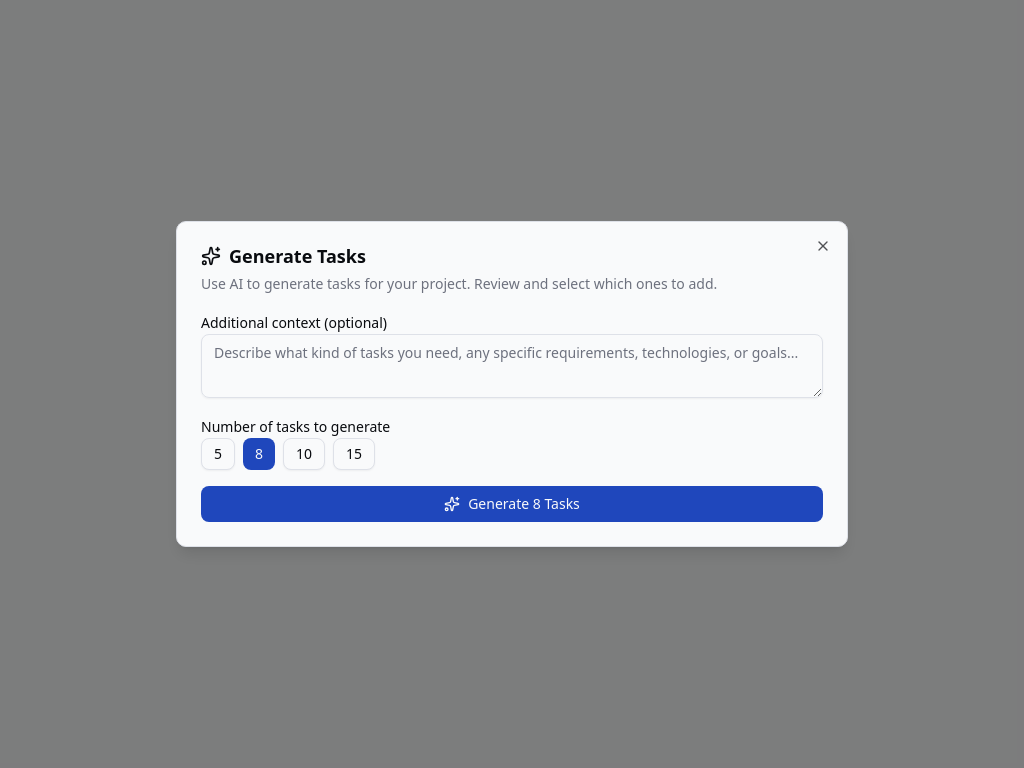
Test: GenerateTasksDialog › changes count when a count button is clicked
This screenshot has width=1024, height=768.
Step 1. Click the button "5" → (218, 454), box [201,438,235,470]
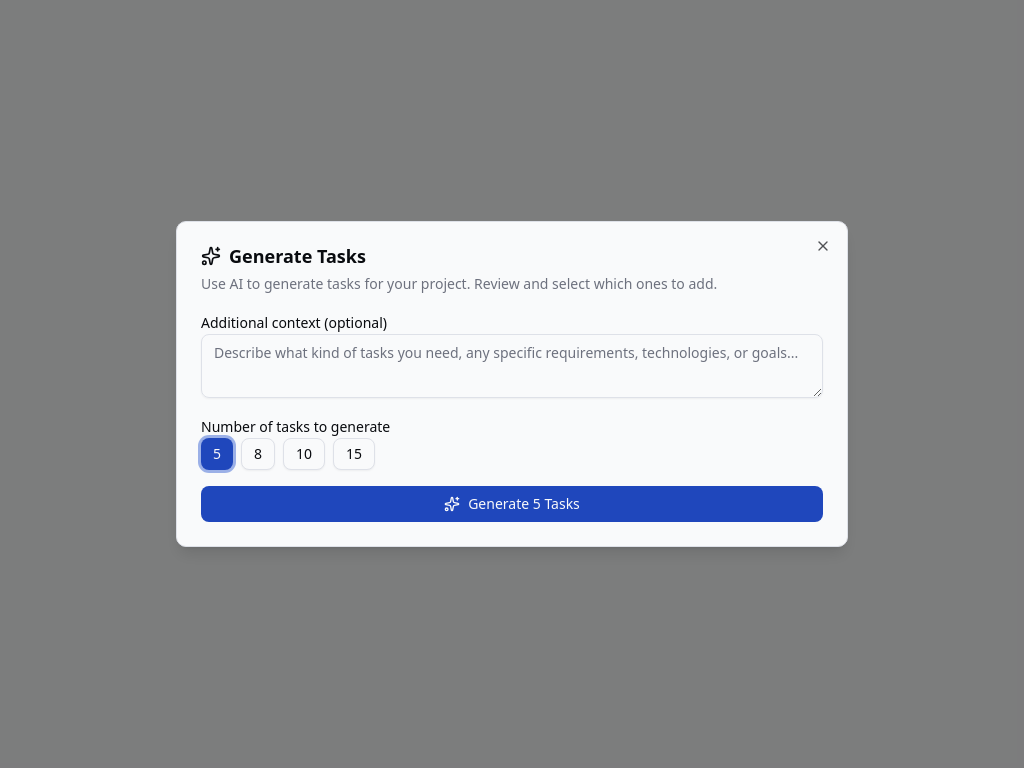
expect the button "Generate 5 Tasks" is shown: met, box [201,486,823,522]
